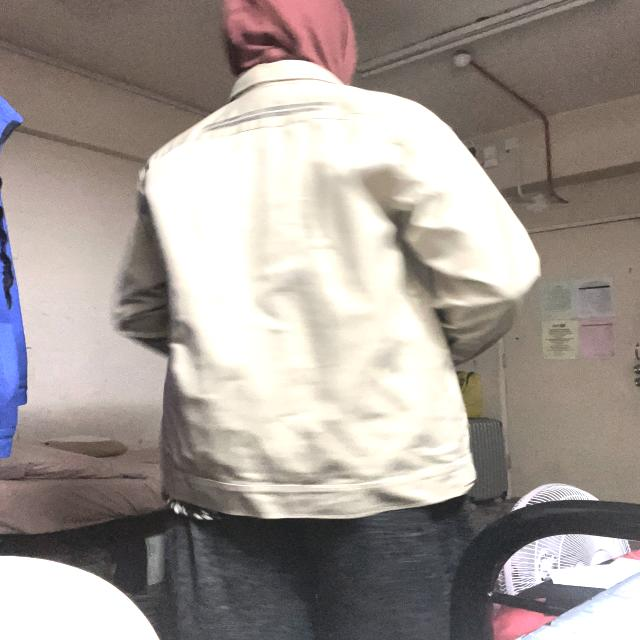person_without_labcoat: (114, 0, 540, 640)
